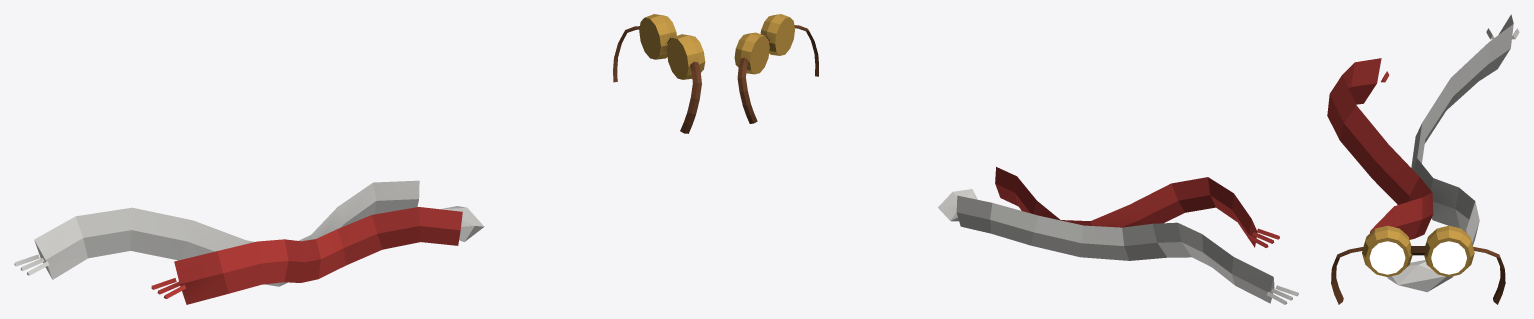
File: gd_plane_goggles.glb
3 views of the same model, side by side, from view 1: azimuth 30°, elevation 25°; view 2: azimuth 150°, elevation 25°; view 3: azimuth 270°, elevation 25° (orthographic). The views are drawn at different scales.
Parts seen in each view (by area): view 1: base; view 2: base; view 3: base.
Part boxes in pixels (bbox=[...]): base: bbox=[14, 14, 705, 304]; base: bbox=[734, 14, 1298, 304]; base: bbox=[1327, 14, 1519, 304].
Bounding box in the file's own units: 0.6284 × 0.1568 × 0.15.
